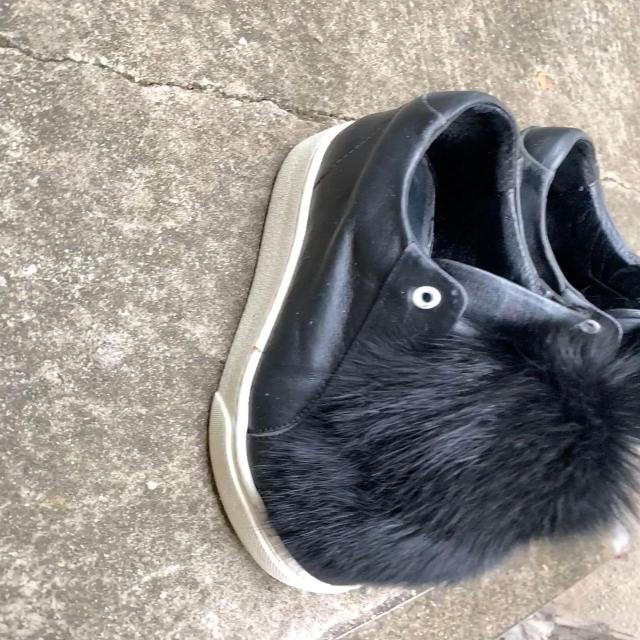shoe: (206, 95, 549, 595)
